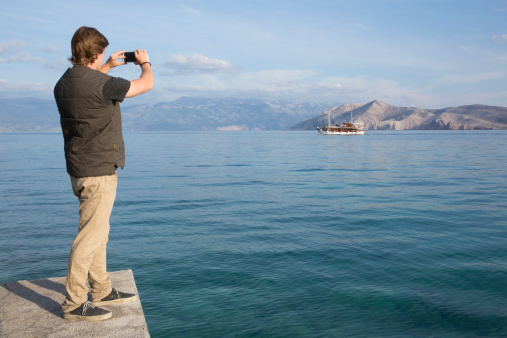em pe: (56, 17, 144, 324)
